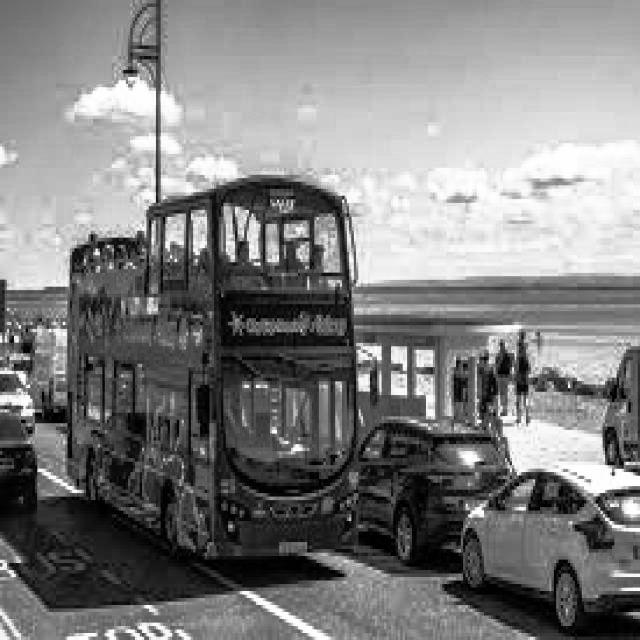Bus: (53, 170, 368, 595)
